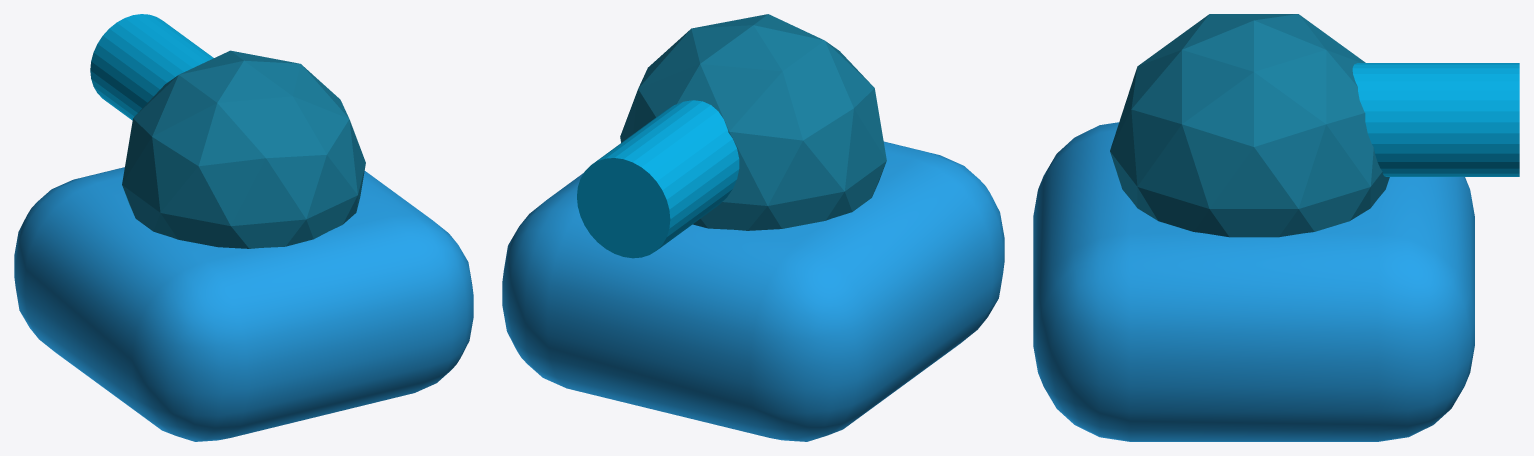
Rendered from enermy2.fbx.
The picture shows the model from 3 angles, left to right: view 1: azimuth 30°, elevation 25°; view 2: azimuth 150°, elevation 25°; view 3: azimuth 270°, elevation 25°; orthographic projection. The views are drawn at different scales.
Parts seen in each view (by area): view 1: 敌人坦克2, 棱角球.002, 柱体.002; view 2: 敌人坦克2, 棱角球.002, 柱体.002; view 3: 敌人坦克2, 棱角球.002, 柱体.002.
Part boxes in pixels (x1,y1,x2,y2): 敌人坦克2: (14,167,473,441); 棱角球.002: (122,50,365,248); 柱体.002: (90,14,213,120); 敌人坦克2: (502,141,1004,441); 棱角球.002: (620,14,886,230); 柱体.002: (577,100,739,258); 敌人坦克2: (1033,122,1474,441); 棱角球.002: (1110,14,1389,237); 柱体.002: (1352,63,1519,176).
Bounding box in the file's own units: 1 × 0.9015 × 1.1.
